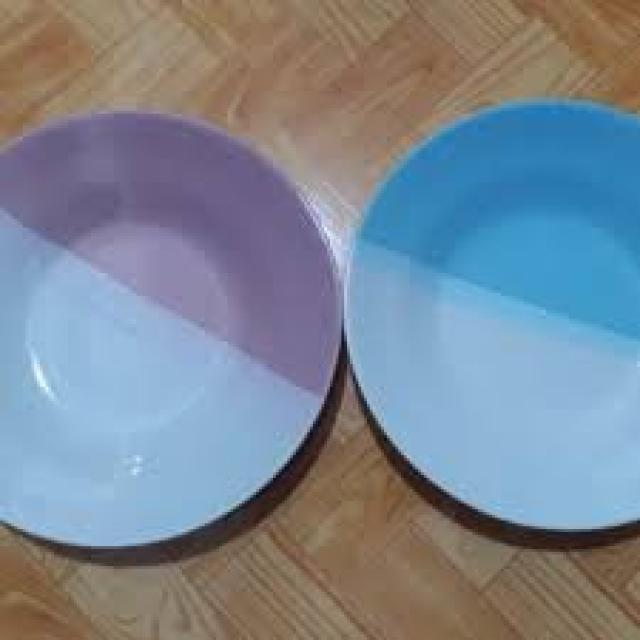Plate: (0, 102, 341, 548), (345, 90, 640, 538)
